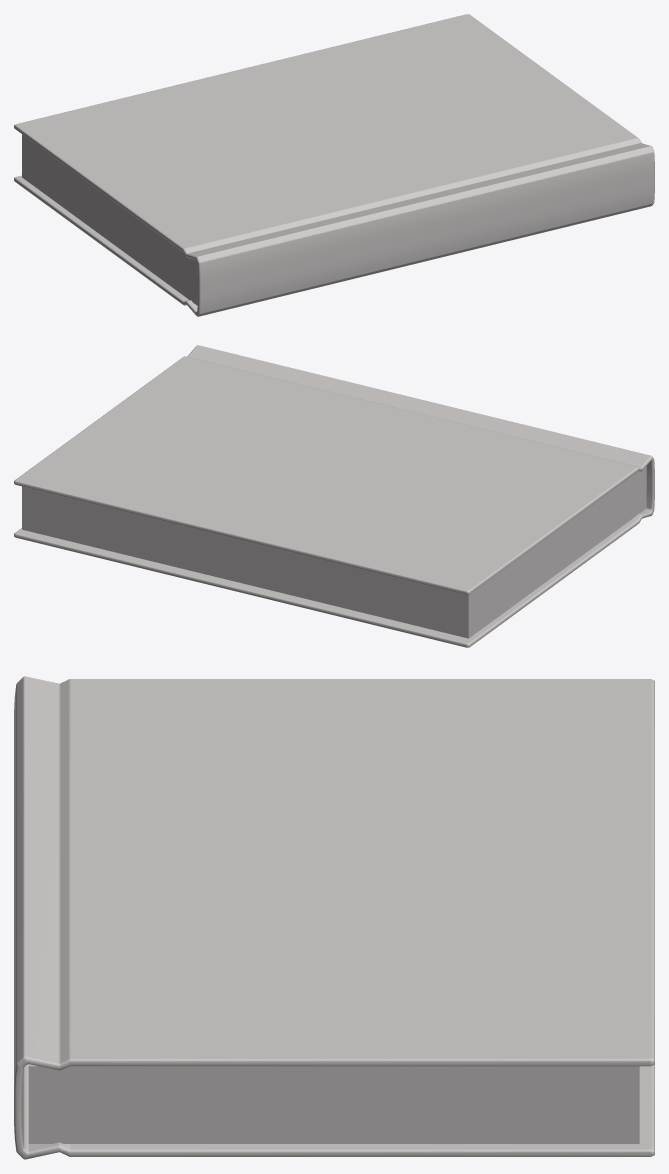
File: book.fbx
The picture shows the model from 3 angles, top to bottom: view 1: azimuth 30°, elevation 25°; view 2: azimuth 150°, elevation 25°; view 3: azimuth 270°, elevation 25°; orthographic projection. The views are drawn at different scales.
Parts seen in each view (by area): view 1: book; view 2: book; view 3: book.
Part boxes in pixels (x1=…): book: x1=14, y1=14, x2=654, y2=316; book: x1=14, y1=345, x2=654, y2=647; book: x1=14, y1=676, x2=654, y2=1159.
Size of the model in its own units: 148 by 18.66 by 105.
1 material, 1 textured.
